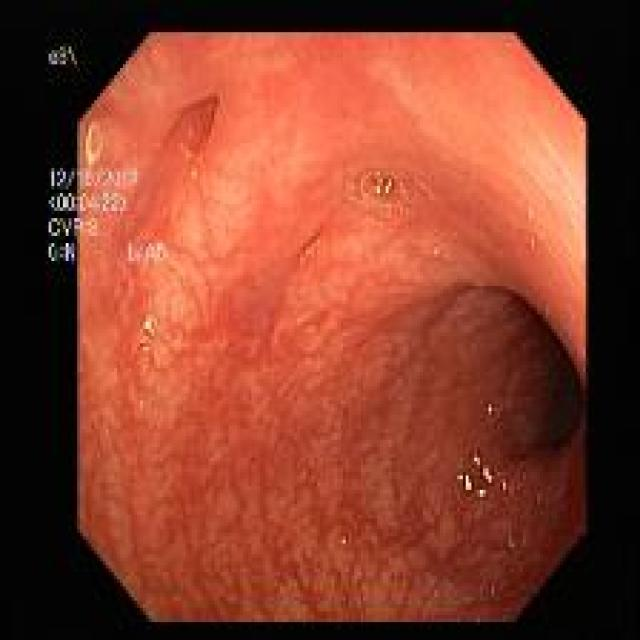ulcerative-colitis: (79, 33, 585, 622)
